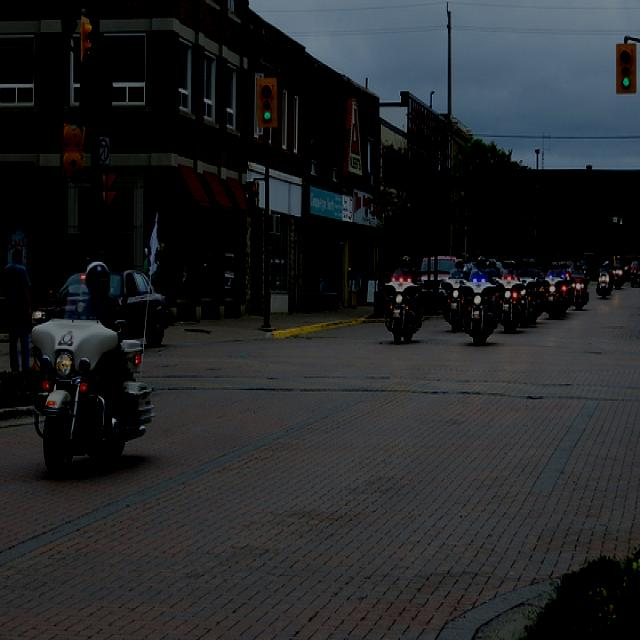Vehicle: (31, 286, 156, 480), (31, 266, 170, 348), (453, 258, 502, 348), (387, 262, 429, 346), (418, 256, 460, 312), (494, 267, 526, 337), (440, 282, 466, 334), (541, 278, 565, 321), (569, 270, 591, 312), (519, 276, 534, 328), (528, 279, 544, 323), (608, 260, 626, 290), (598, 267, 610, 298), (628, 259, 640, 287)
